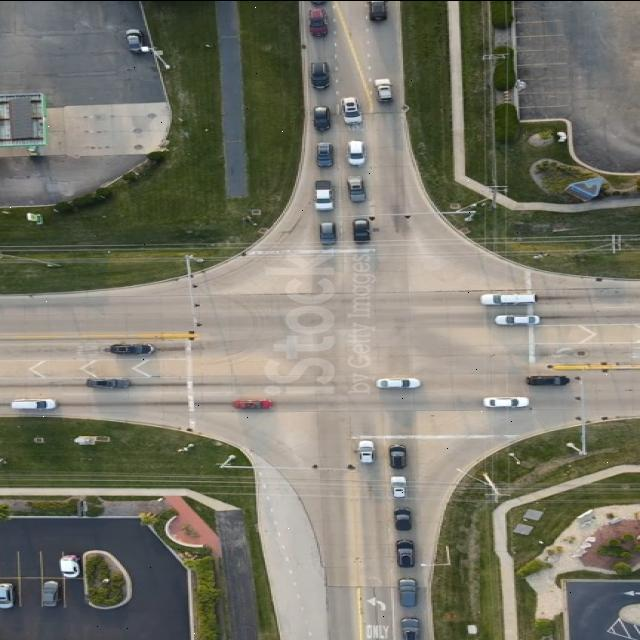car: (482, 290, 538, 303), (398, 578, 418, 606), (308, 9, 328, 37), (396, 538, 416, 566), (400, 544, 420, 572), (486, 394, 532, 406), (481, 390, 527, 402), (126, 28, 148, 52), (344, 96, 364, 122), (311, 62, 331, 88), (403, 616, 424, 640), (353, 218, 373, 243), (13, 398, 59, 408), (378, 378, 422, 388), (112, 344, 156, 354), (60, 554, 80, 576), (496, 314, 540, 324), (348, 139, 366, 163), (316, 141, 334, 165), (349, 176, 367, 200), (314, 105, 332, 129), (396, 504, 414, 528), (526, 376, 568, 386), (88, 378, 130, 388), (370, 0, 390, 20), (320, 222, 338, 244), (390, 446, 408, 468), (375, 76, 393, 98), (235, 398, 274, 408), (0, 582, 15, 607), (358, 440, 375, 462)
pickup-truck: (40, 579, 60, 606)
